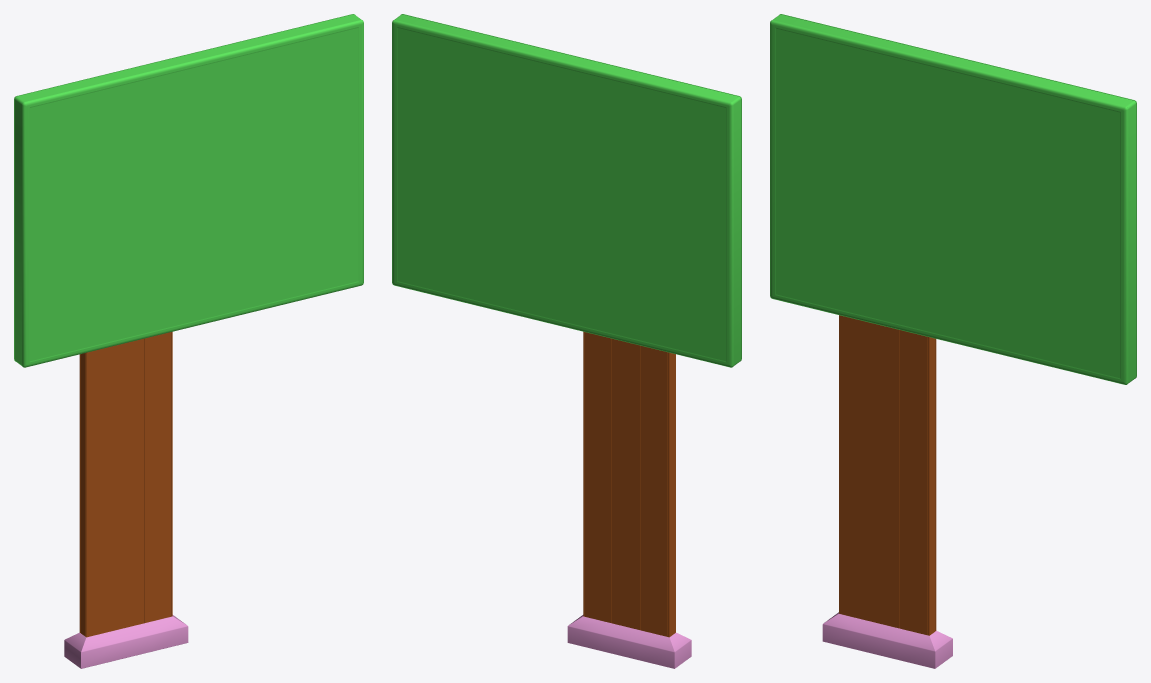
File: board.FBX
3 views of the same model, side by side, from view 1: azimuth 30°, elevation 25°; view 2: azimuth 150°, elevation 25°; view 3: azimuth 330°, elevation 25° (orthographic). The views are drawn at different scales.
Visible parts, largest first — view 1: ADV_BOX, City_board, Stand_foot; view 2: ADV_BOX, City_board, Stand_foot; view 3: ADV_BOX, City_board, Stand_foot.
Part boxes in pixels (left/top/right/bottom): ADV_BOX: left=14, top=14, right=363, bottom=367; City_board: left=79, top=332, right=172, bottom=637; Stand_foot: left=64, top=615, right=188, bottom=668; ADV_BOX: left=392, top=14, right=741, bottom=367; City_board: left=583, top=331, right=675, bottom=637; Stand_foot: left=567, top=615, right=691, bottom=668; ADV_BOX: left=770, top=14, right=1136, bottom=384; City_board: left=839, top=315, right=936, bottom=635; Stand_foot: left=822, top=612, right=952, bottom=668.
Bounding box in the file's own units: 159 × 256 × 13.6.
